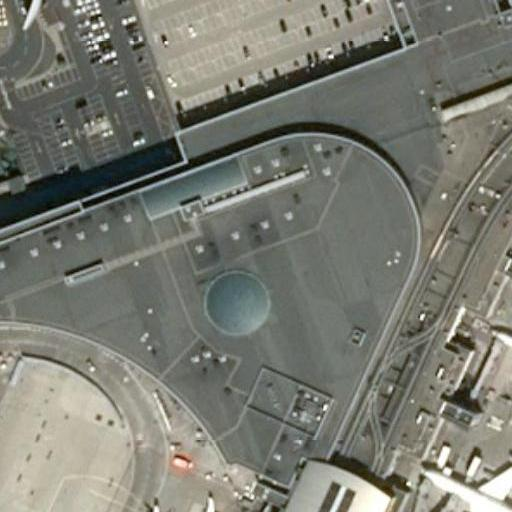Aircraft: (416, 432, 512, 512), (138, 492, 246, 512), (488, 315, 512, 402)
